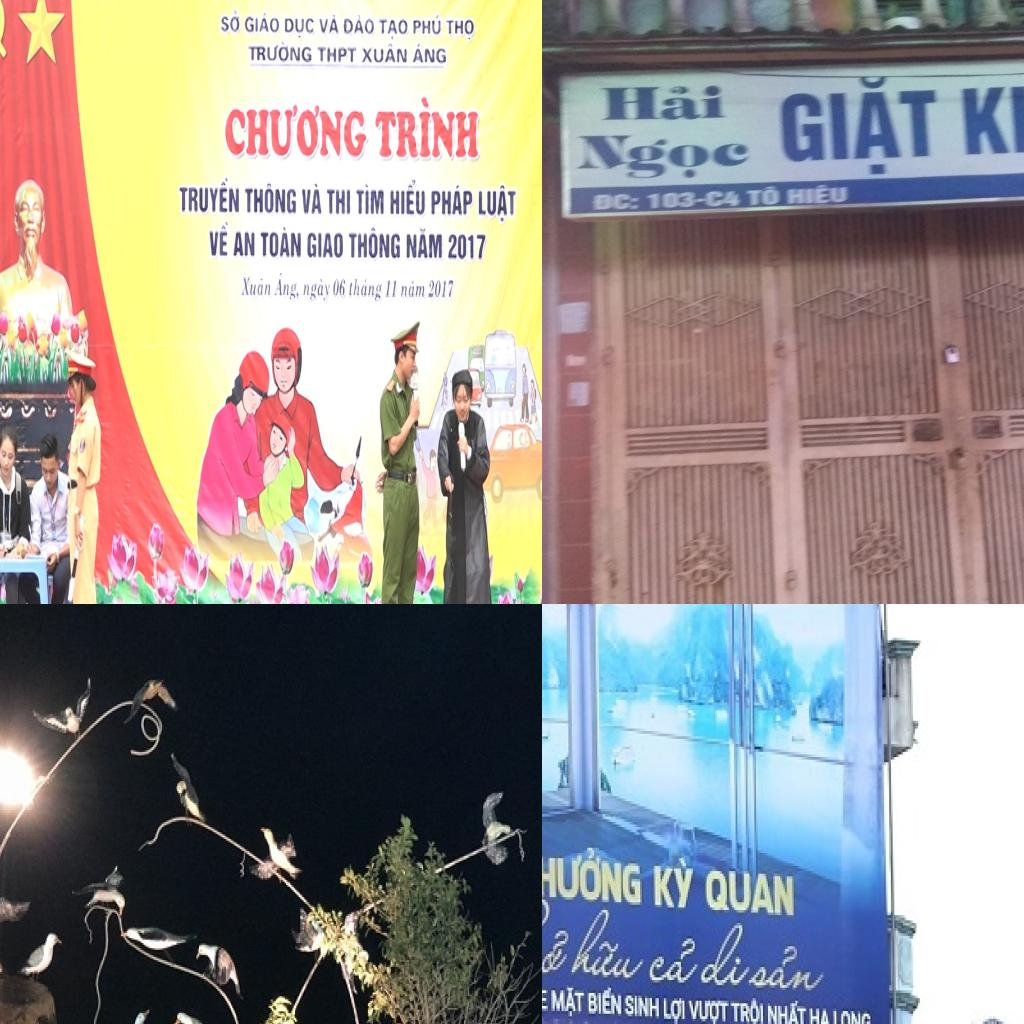text: (770, 73, 946, 179), (569, 133, 754, 184), (223, 102, 371, 165), (373, 93, 484, 168), (542, 840, 647, 915), (944, 66, 1024, 162), (566, 907, 654, 988), (593, 80, 734, 124), (703, 864, 799, 926), (746, 938, 834, 1000), (698, 920, 758, 996), (542, 891, 580, 985), (645, 934, 705, 990), (650, 853, 700, 915), (176, 176, 241, 216), (644, 188, 744, 211), (347, 224, 402, 262), (243, 180, 298, 216), (477, 182, 518, 227), (429, 182, 475, 222), (782, 182, 852, 208), (258, 223, 303, 261), (388, 178, 428, 220), (247, 41, 313, 66), (587, 982, 625, 1022), (404, 227, 444, 263), (305, 227, 345, 262), (447, 230, 488, 264), (550, 985, 587, 1022), (687, 995, 730, 1024), (766, 995, 808, 1024), (354, 181, 386, 218), (624, 993, 662, 1024), (589, 191, 642, 213), (360, 42, 408, 66), (348, 274, 384, 306), (244, 8, 282, 38), (728, 995, 766, 1024), (238, 272, 274, 301), (273, 270, 303, 304), (207, 218, 231, 260), (340, 12, 377, 39), (743, 183, 782, 208), (302, 274, 332, 306), (444, 15, 477, 44), (324, 183, 352, 217), (426, 274, 458, 303), (411, 41, 448, 66), (316, 44, 358, 66), (300, 180, 324, 218), (411, 12, 443, 40), (283, 13, 316, 39), (377, 15, 410, 40), (660, 995, 687, 1024), (232, 229, 256, 259), (831, 1008, 875, 1024), (399, 277, 427, 302), (219, 9, 242, 37), (318, 12, 341, 37), (809, 1006, 834, 1024), (384, 274, 400, 301), (333, 275, 348, 301)
